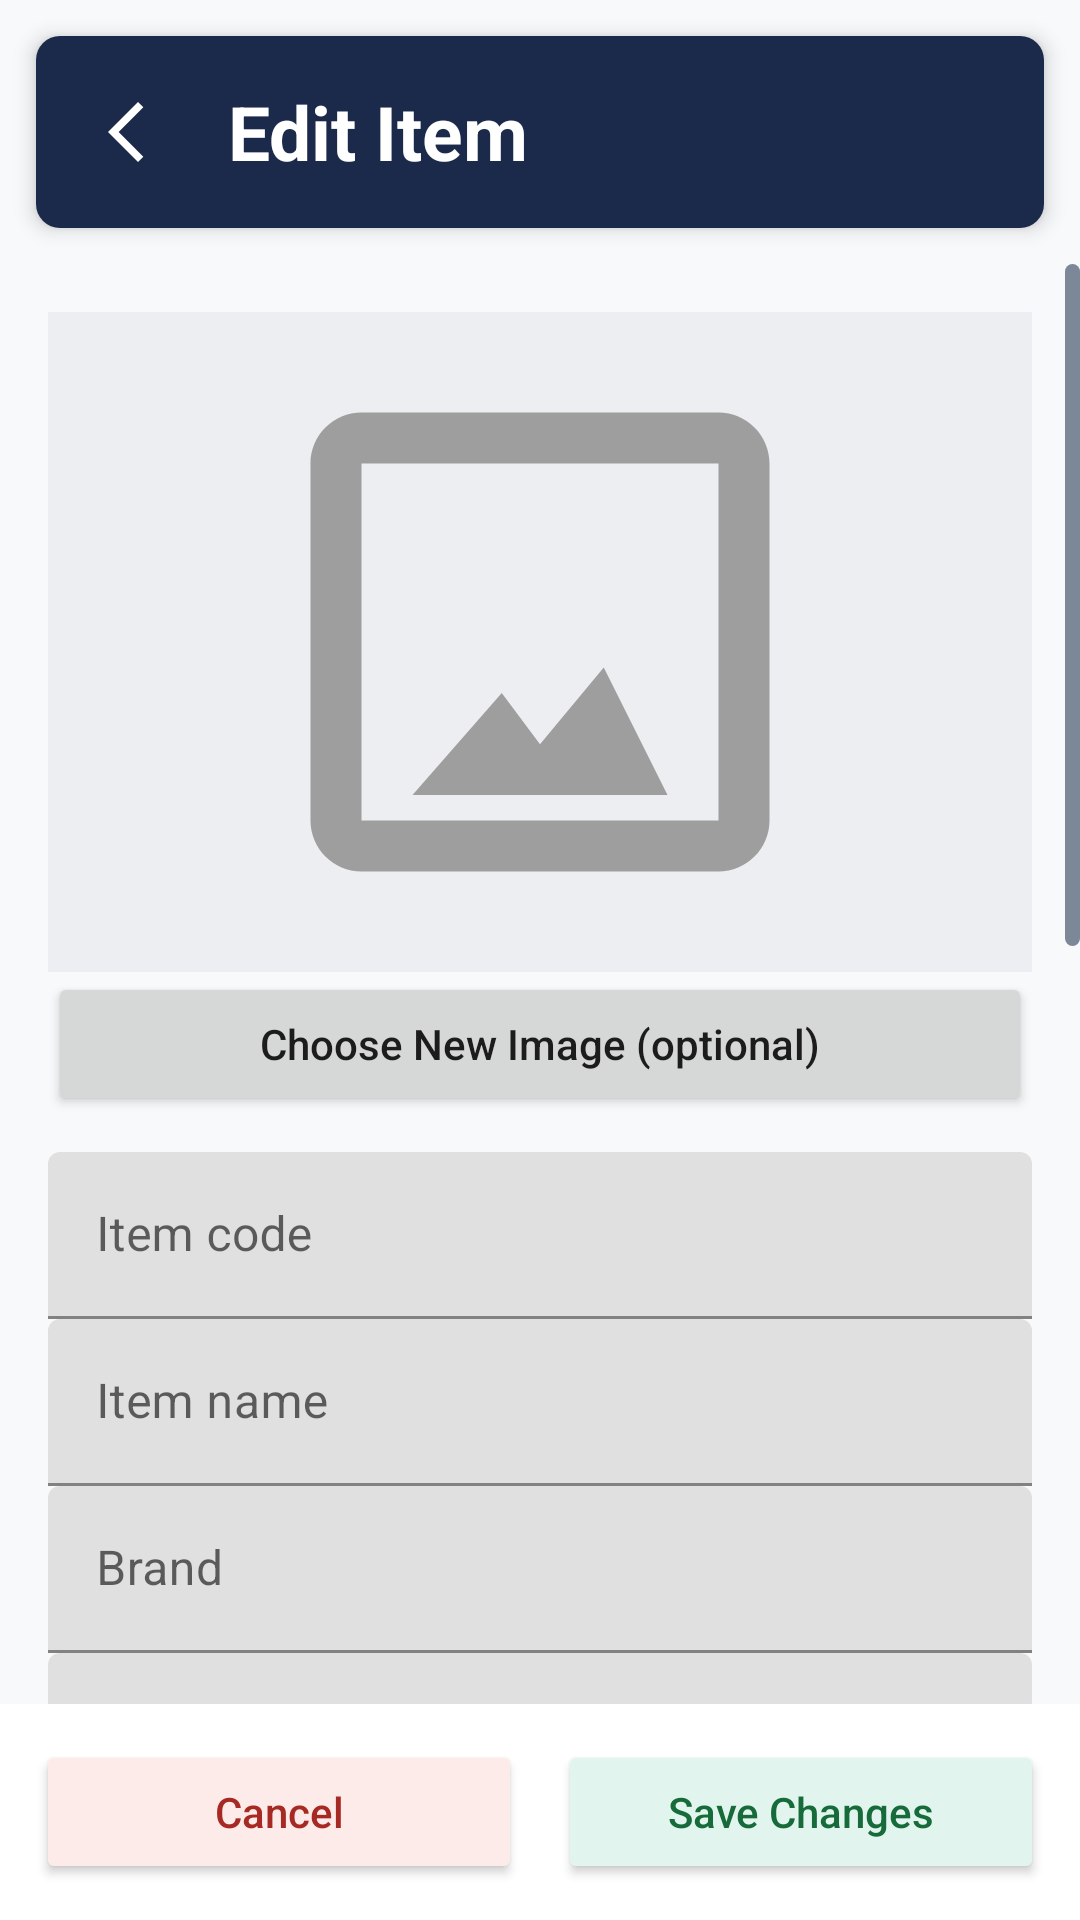

Locate icon controls on the screen. Image size 1080×1920, boxes as (x1=x1, y1=y1, x2=x2, y2=y2).
Back: (x1=108, y1=102, x2=143, y2=162)
